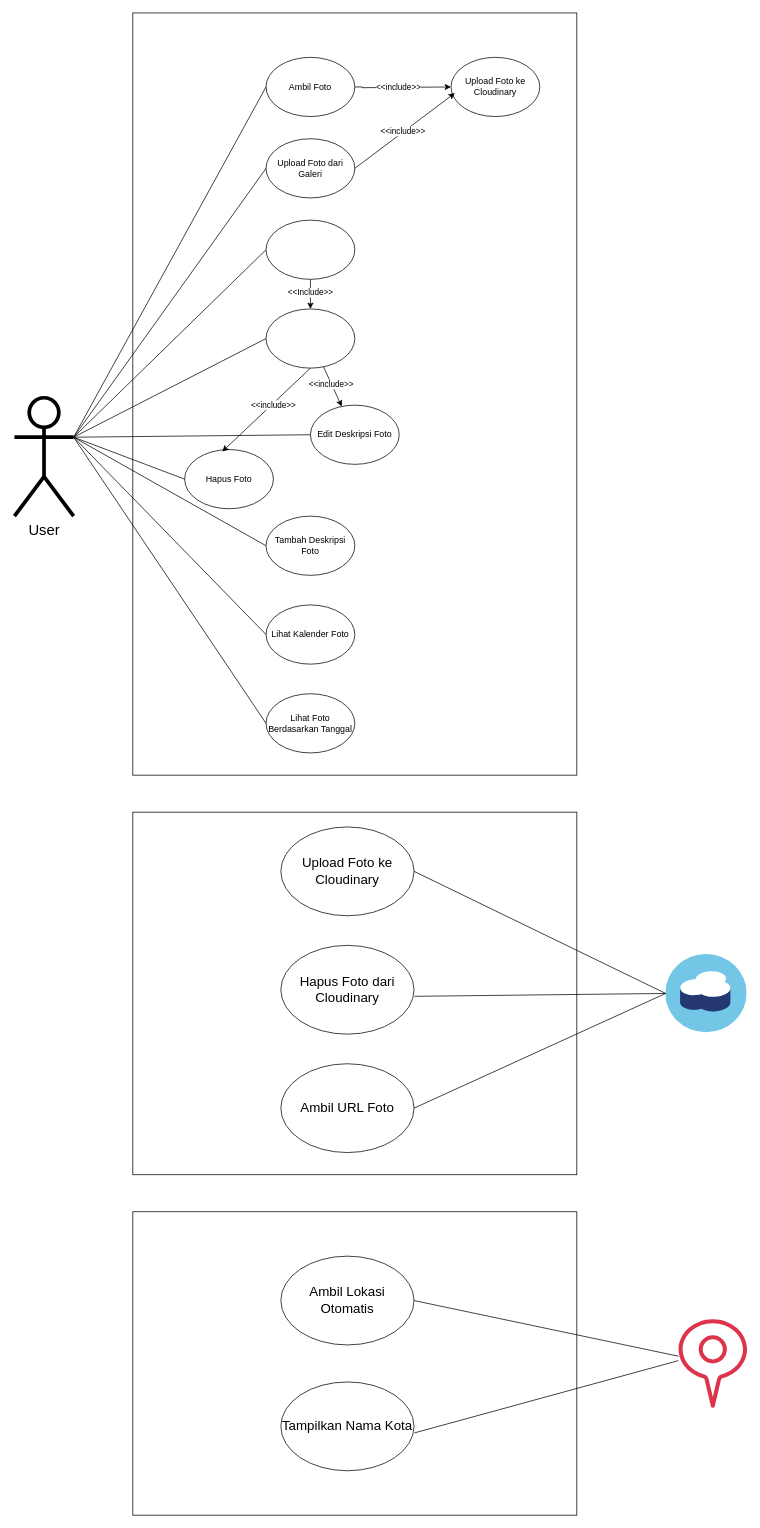
The diagram is 760 pixels wide and 1528 high, and some of its shapes have lost their labels. The box of each missing label's shape, as (x1, y1, x2, y2) in pixels:
Lihat Detail Foto: (265, 308, 355, 368)
Lihat Foto: (265, 219, 355, 279)
